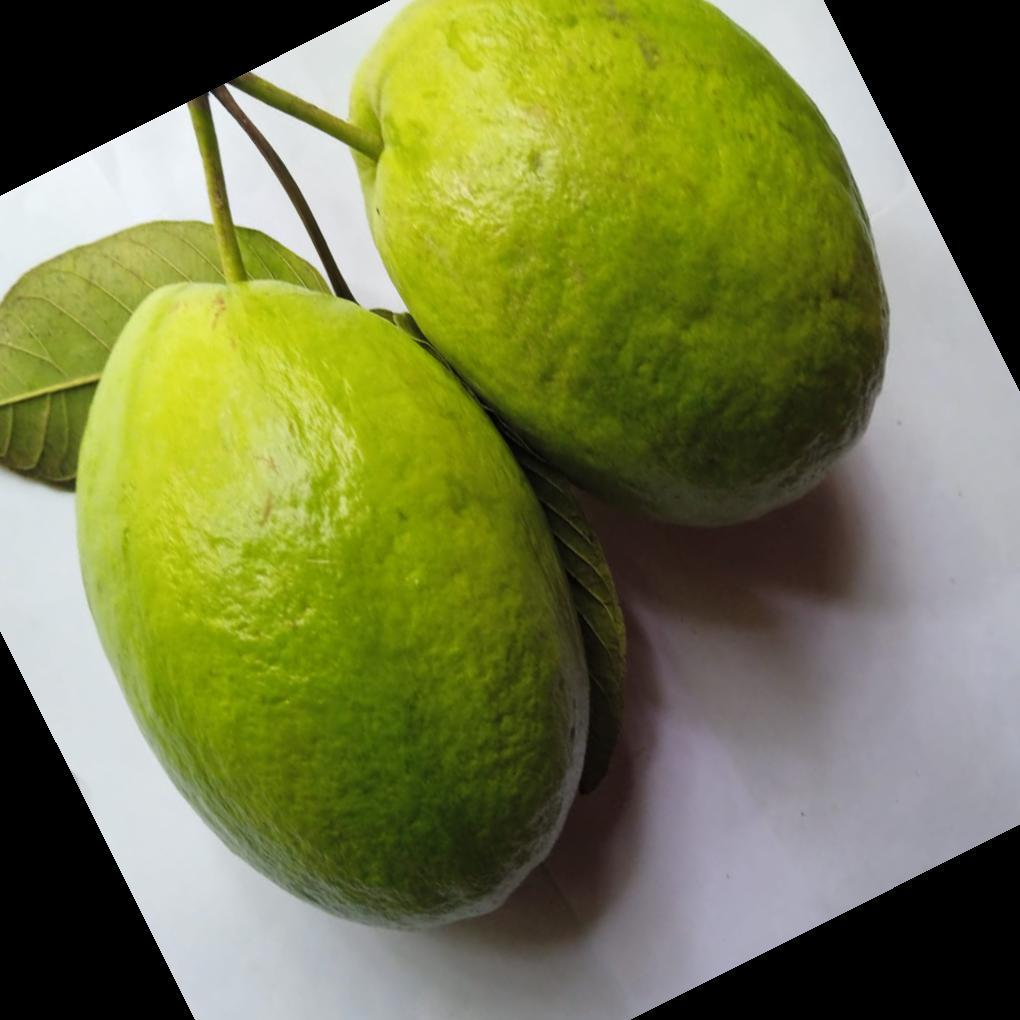FreshGuava: (71, 0, 891, 935)
